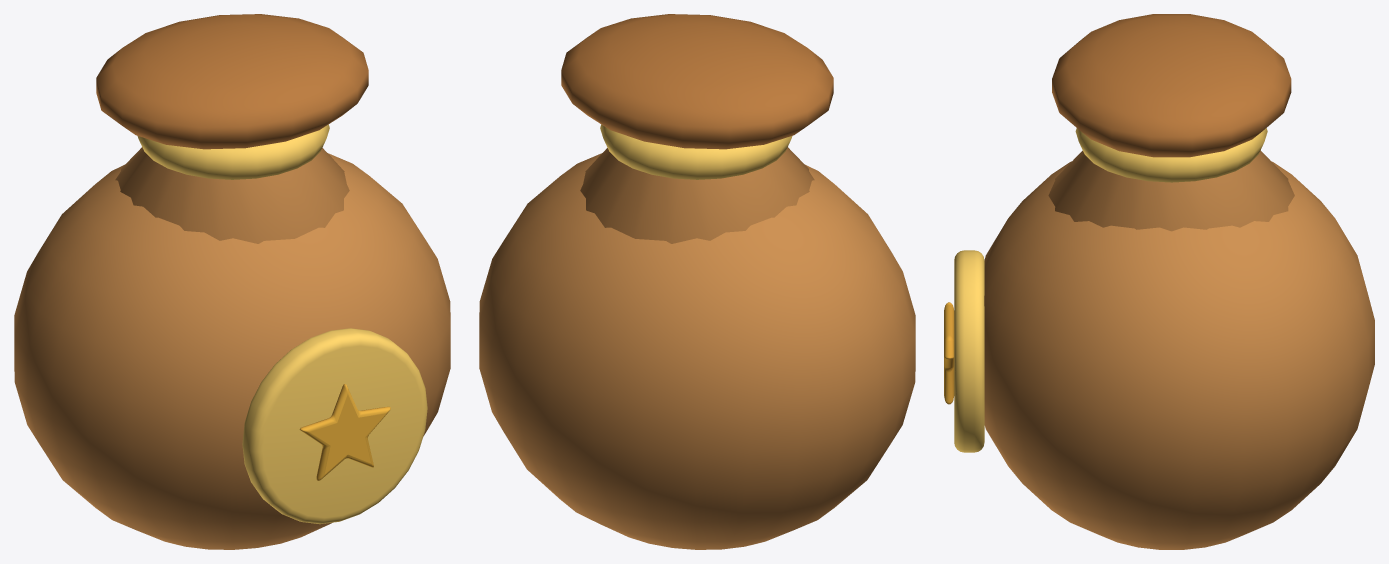
File: moneybag.glb
The picture shows the model from 3 angles, left to right: view 1: azimuth 30°, elevation 25°; view 2: azimuth 150°, elevation 25°; view 3: azimuth 270°, elevation 25°; orthographic projection.
Parts seen in each view (by area): view 1: cc98b4b, cffd466, frill, coin_star; view 2: cc98b4b, frill, cffd466; view 3: cc98b4b, frill, cffd466, coin_star.
Boxes of the visible parts, <box> form: cc98b4b: <box>14,147,450,549</box>; cffd466: <box>137,124,427,524</box>; frill: <box>96,14,368,149</box>; coin_star: <box>299,384,390,480</box>; cc98b4b: <box>479,147,915,549</box>; frill: <box>561,14,833,149</box>; cffd466: <box>600,124,792,179</box>; cc98b4b: <box>984,150,1374,549</box>; frill: <box>1052,14,1291,157</box>; cffd466: <box>954,128,1267,452</box>; coin_star: <box>944,302,954,404</box>.
Bounding box in the file's own units: 0.8672 × 1.05 × 0.8518.
